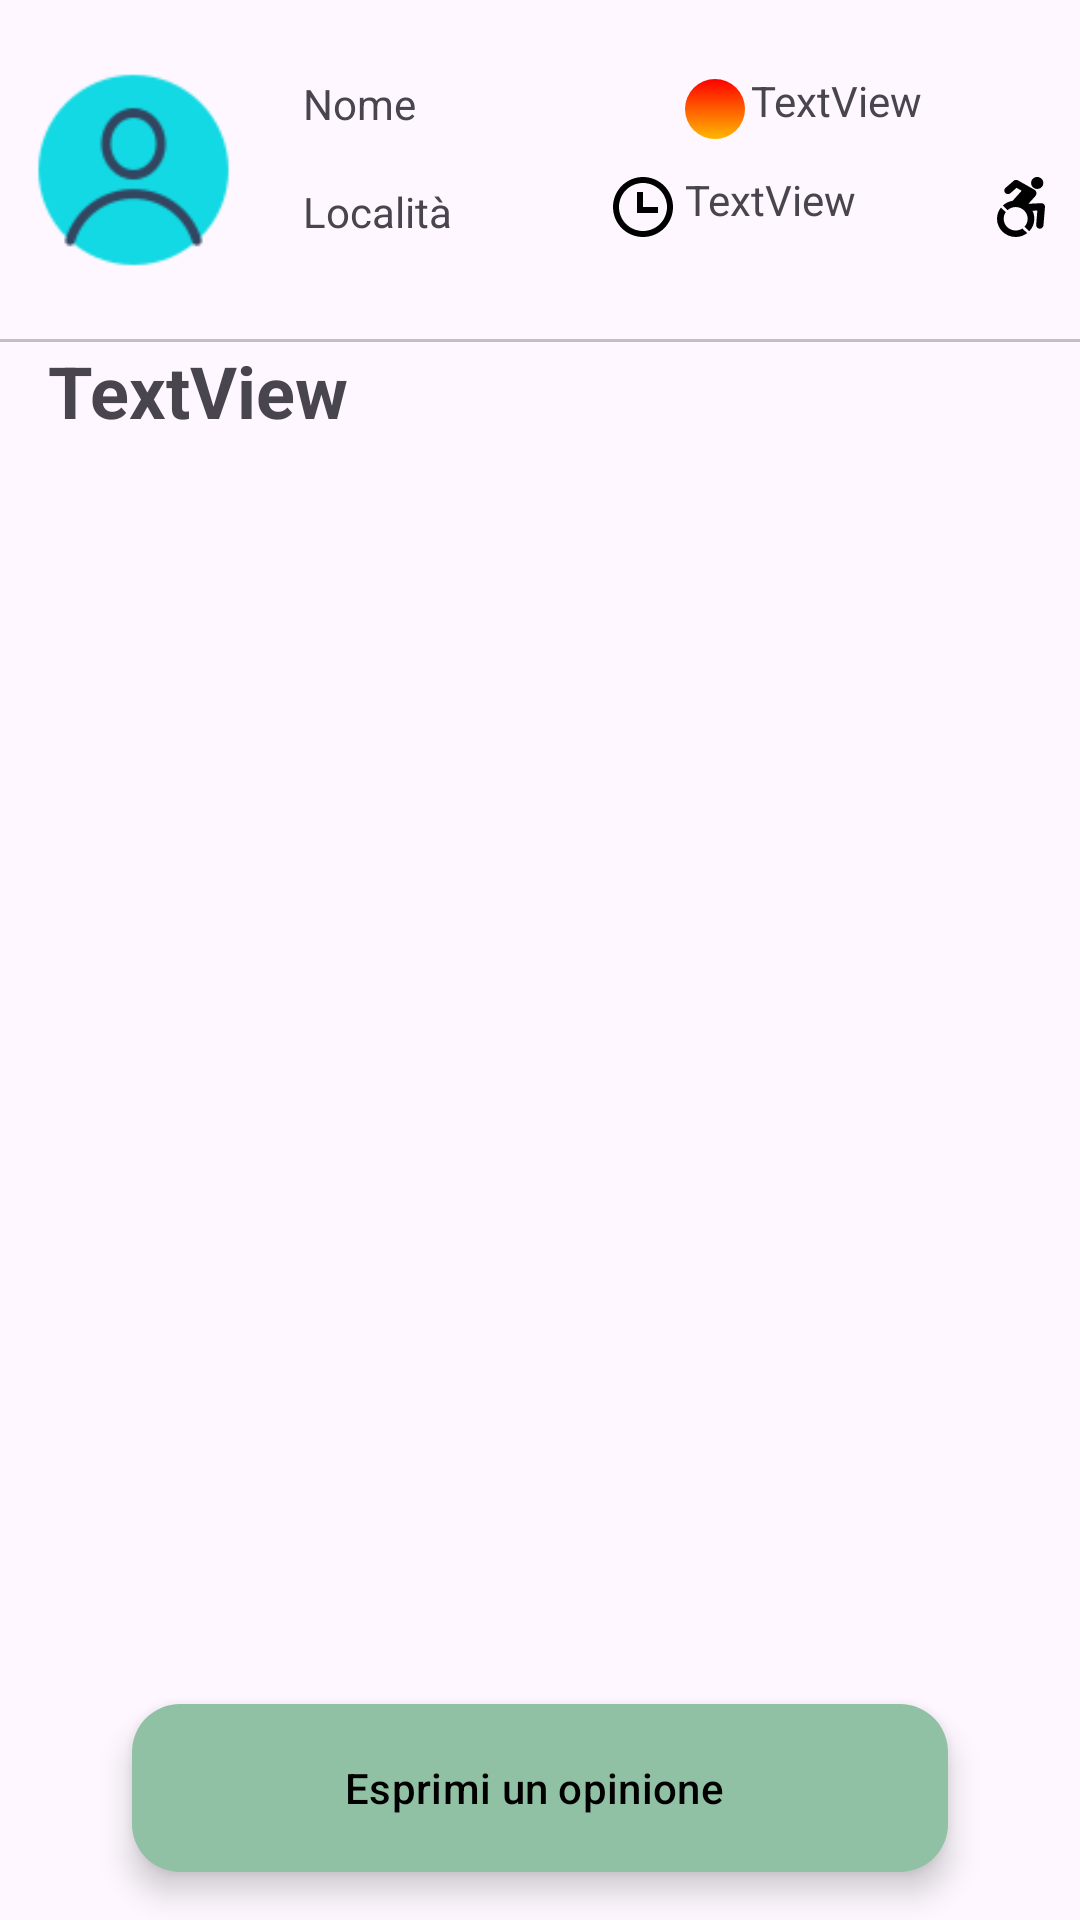

Icon bounding boxes for this 1080x1920 phone screenshot, format bbox=(x1, y1, x2, y2):
male user: bbox=(38, 74, 229, 266)
